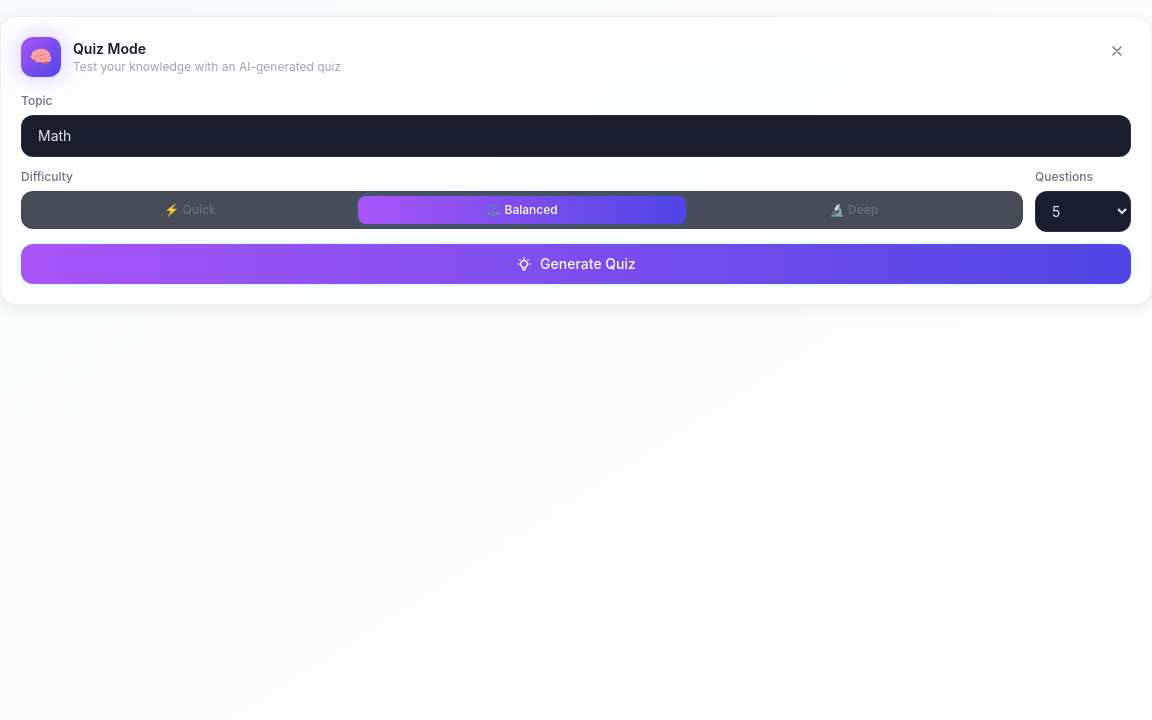
Test case: QuizView › shows question count in answering phase
This screenshot has width=1152, height=720.
Click the button "Generate Quiz" at (576, 264), box [21,244,1131,284]
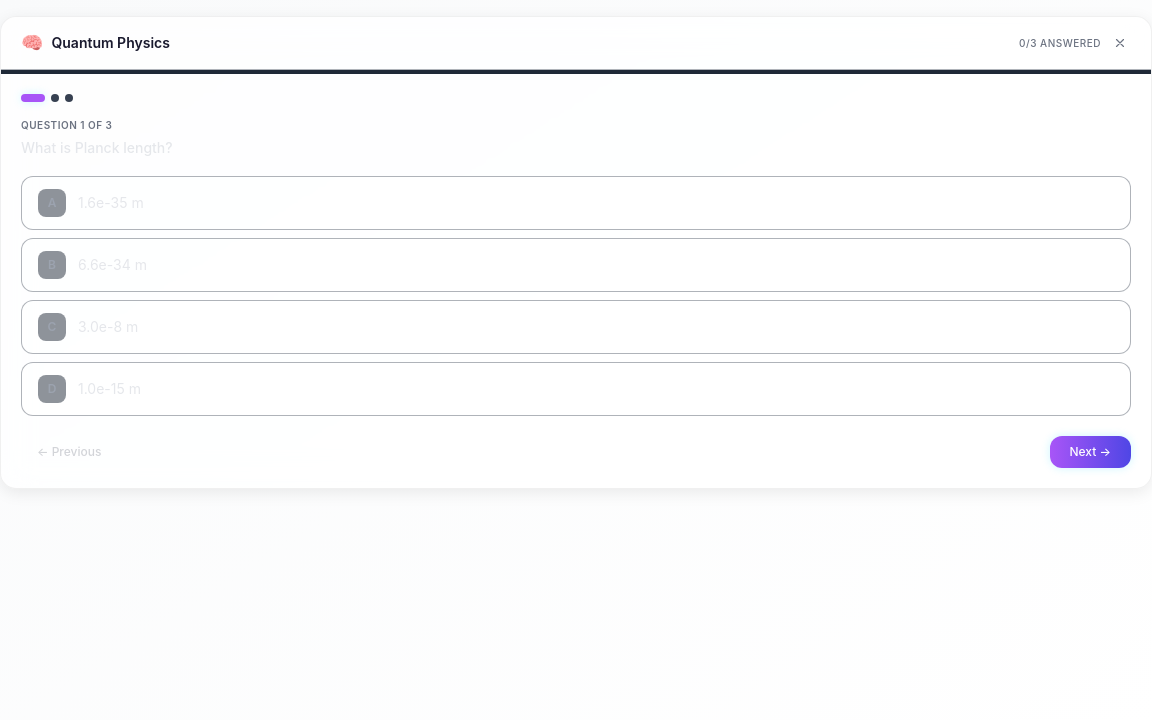
Expected: the text "Question 1 of 3" is shown, [21,119,112,131]
